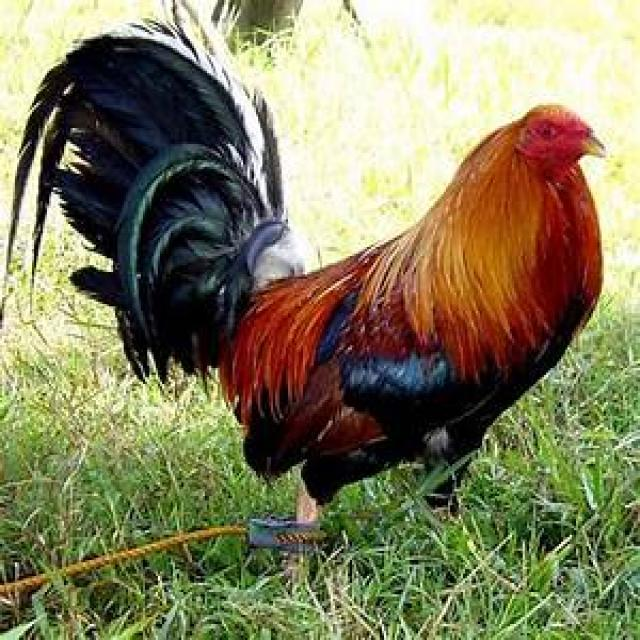hen: (45, 46, 608, 528)
